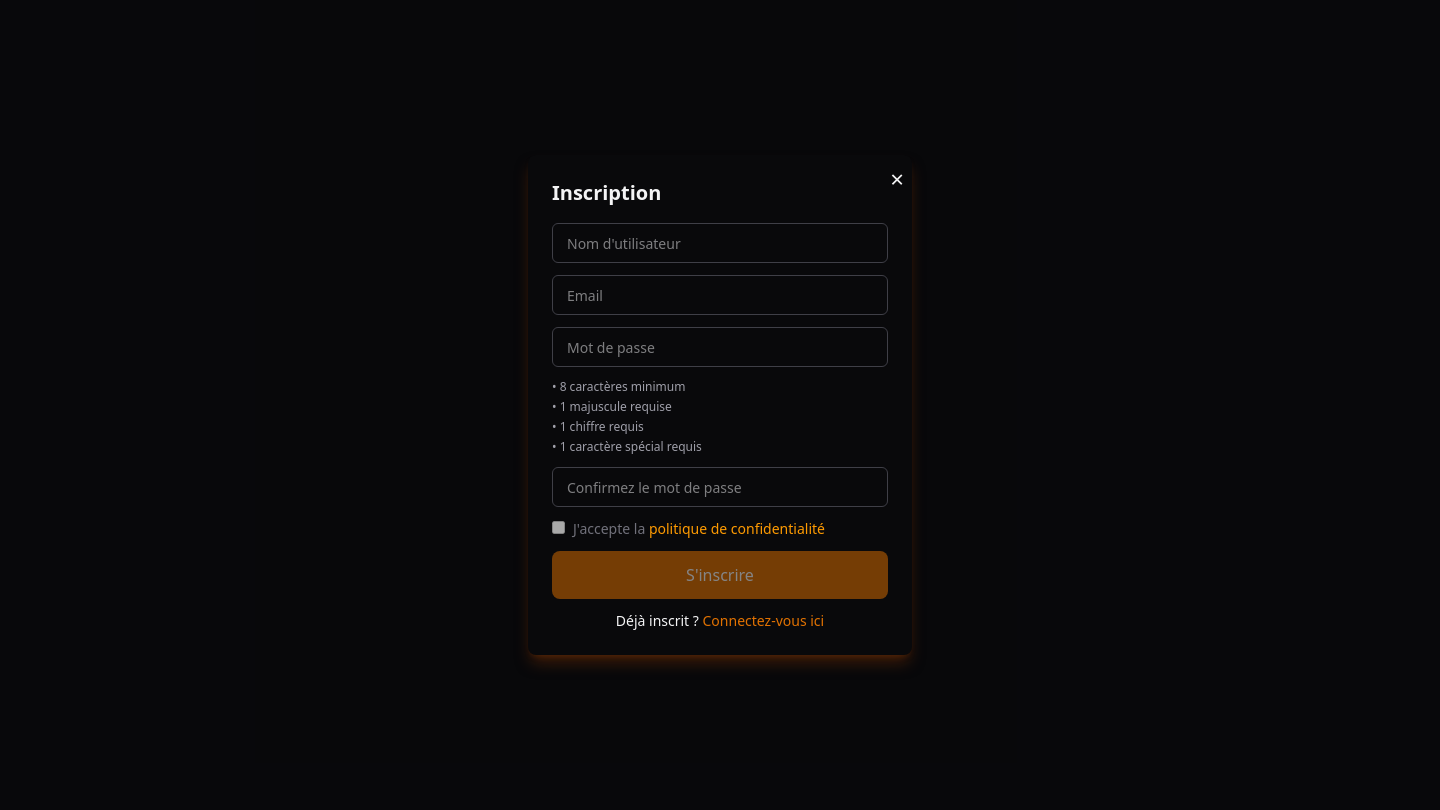
RegisterPage › shows error when password is too short
The image size is (1440, 810).
In the field with placeholder "Nom d'utilisateur": (720, 243) [552,223,888,263], type "TestUser"
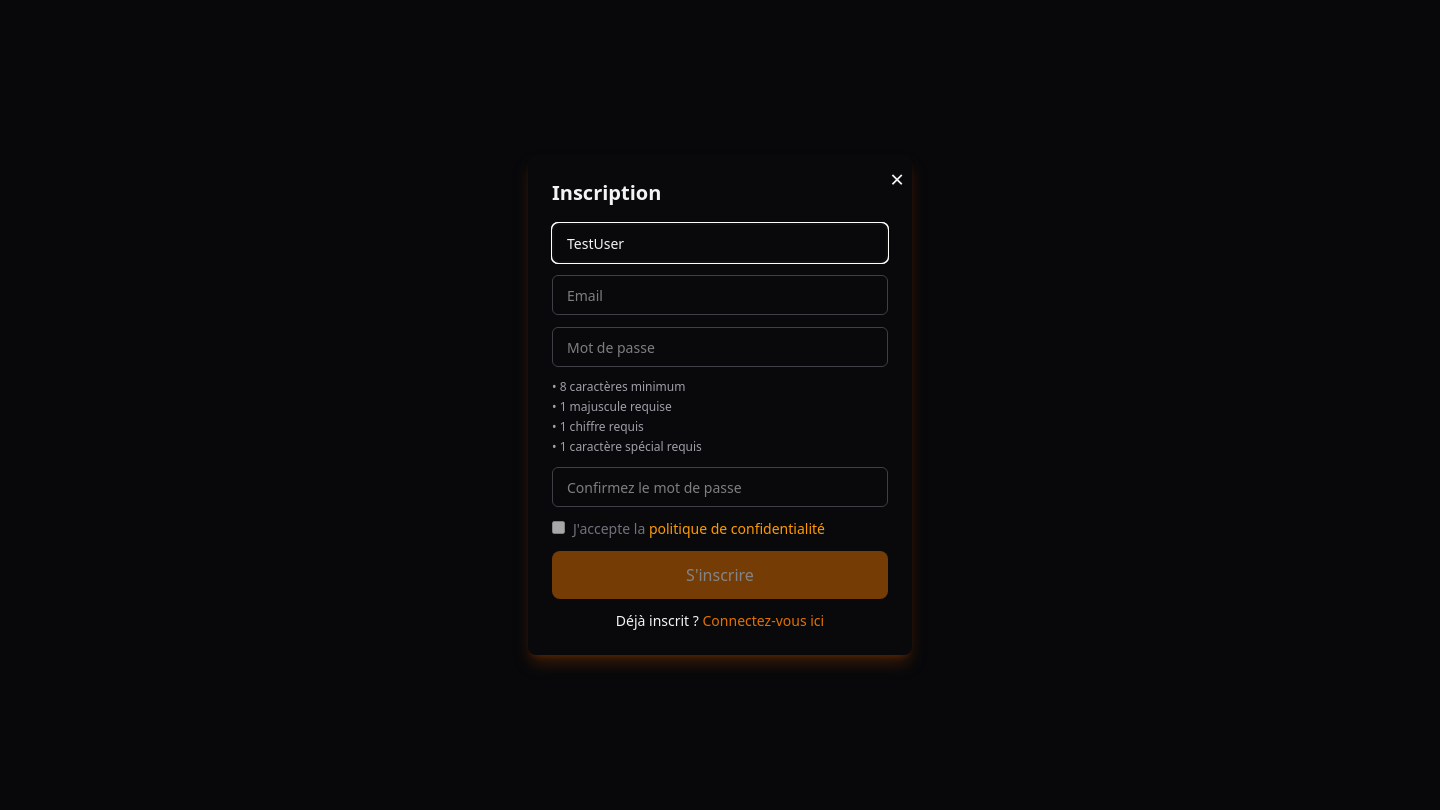
In the field with placeholder "Email": (720, 295) [552,275,888,315], type "test@example.com"
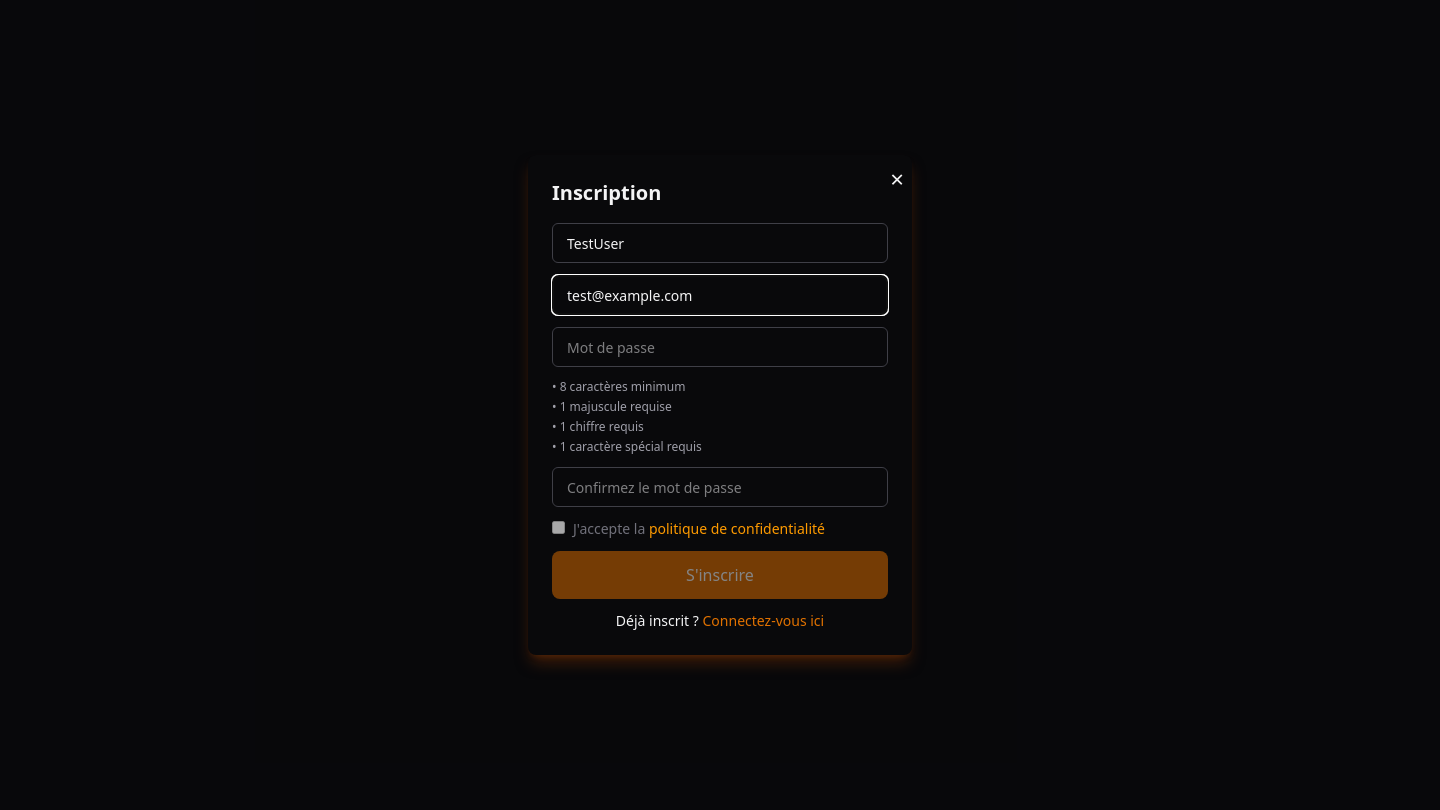
In the password field with placeholder "Mot de passe": (720, 347) [552,327,888,367], type "short"
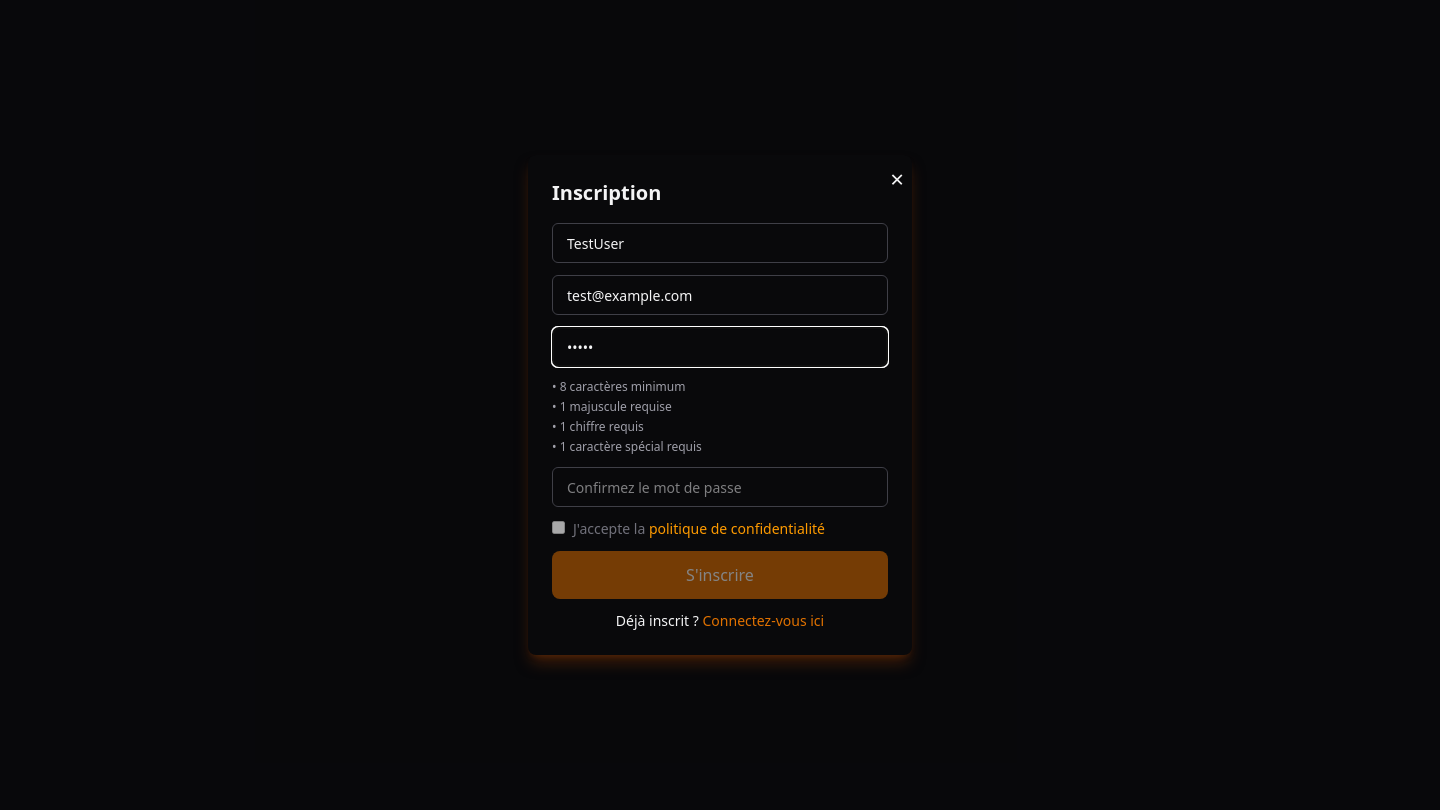
In the password field with placeholder "Confirmez le mot de passe": (720, 487) [552,467,888,507], type "short"
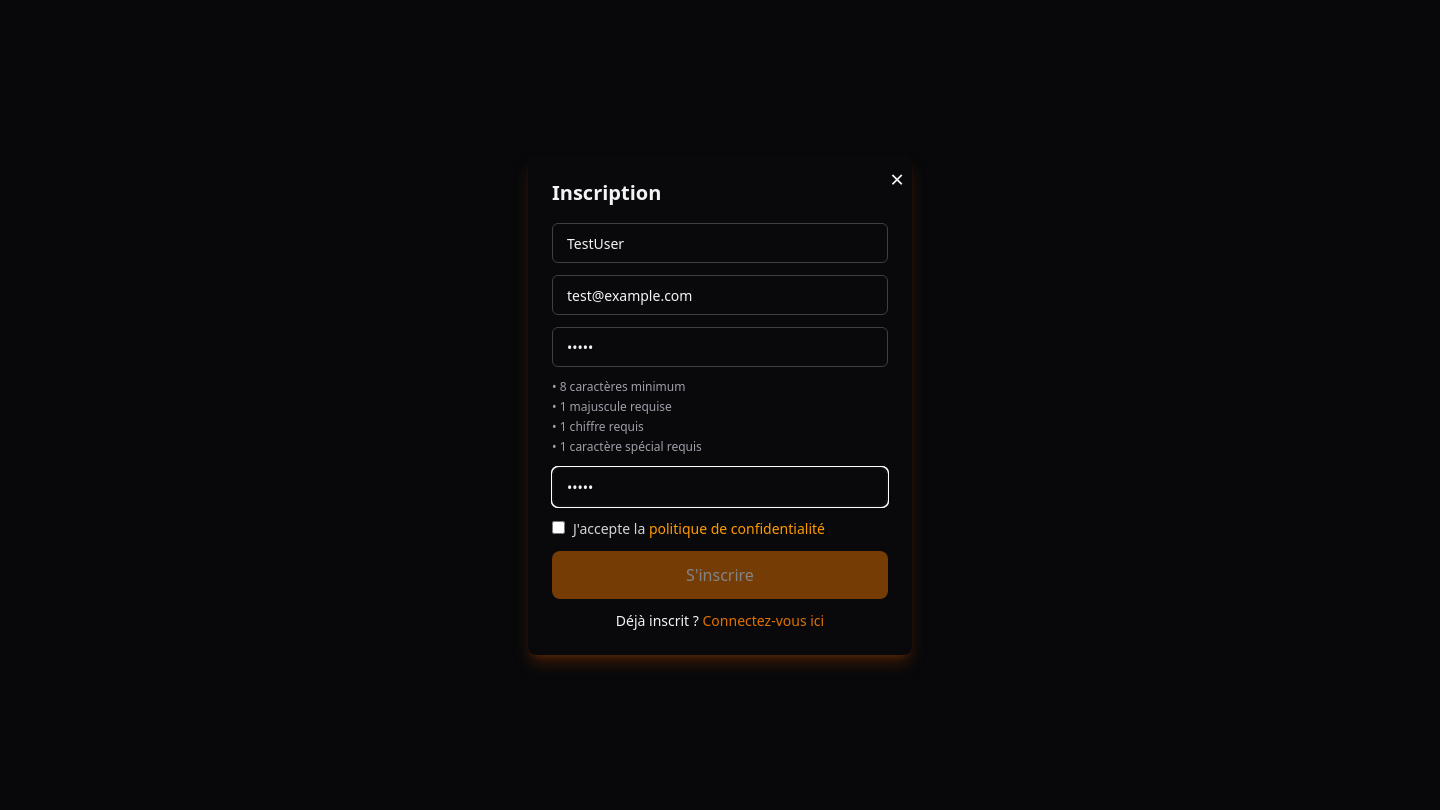
Click the checkbox: (558, 528) [552,521,565,534]
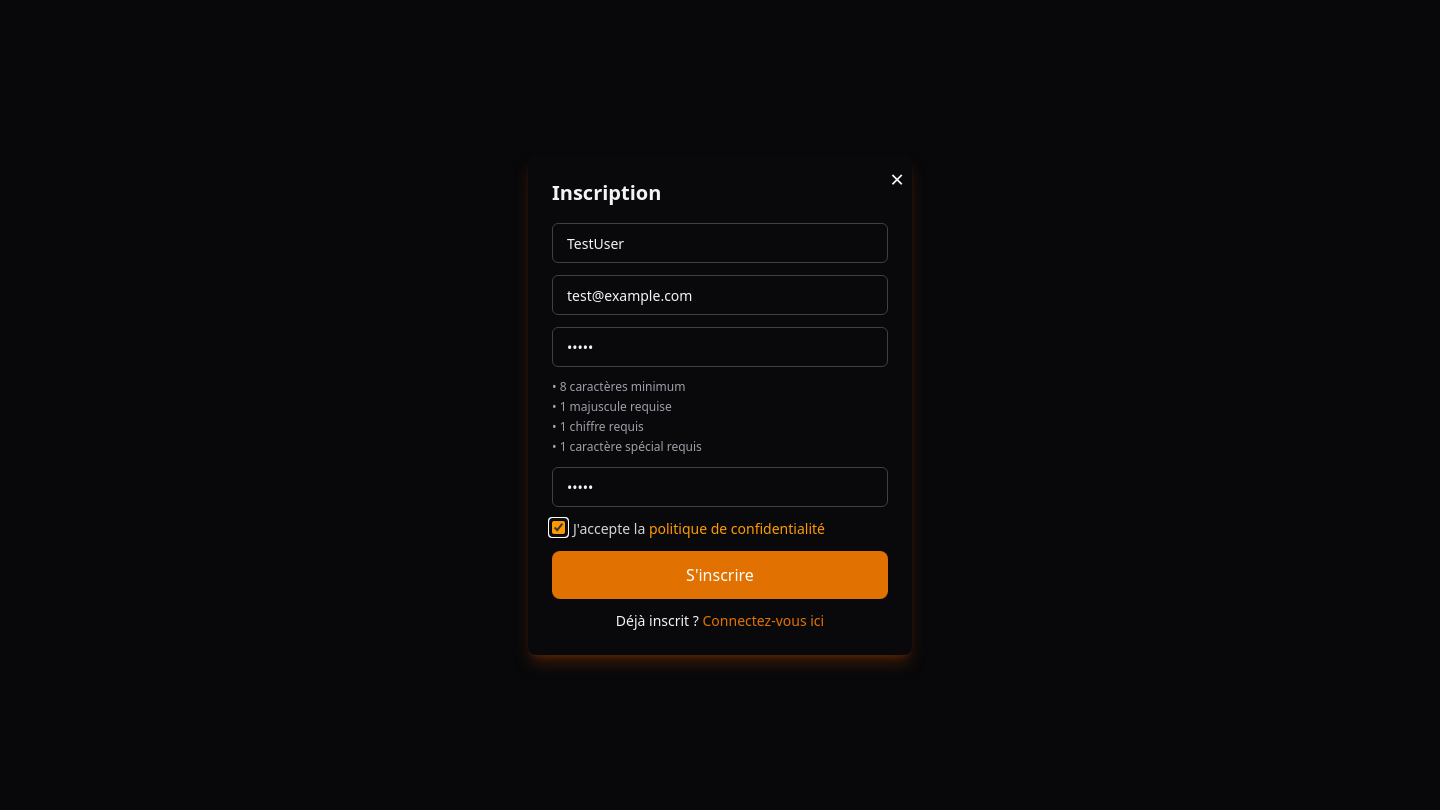
Click the button "S'inscrire": (720, 575) [552,551,888,599]
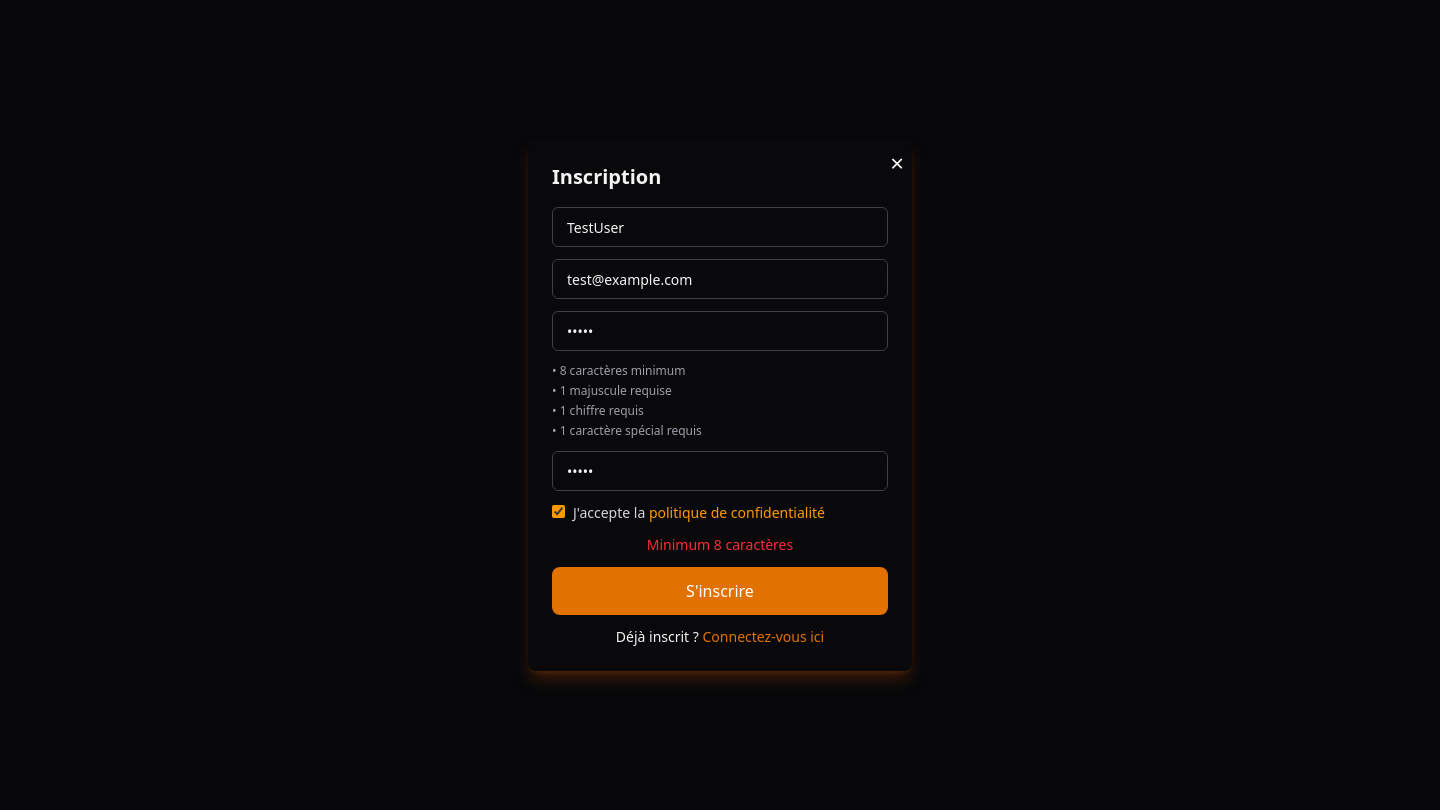
expect the text "Minimum 8 caractères" is shown: met, box [647,535,793,554]
